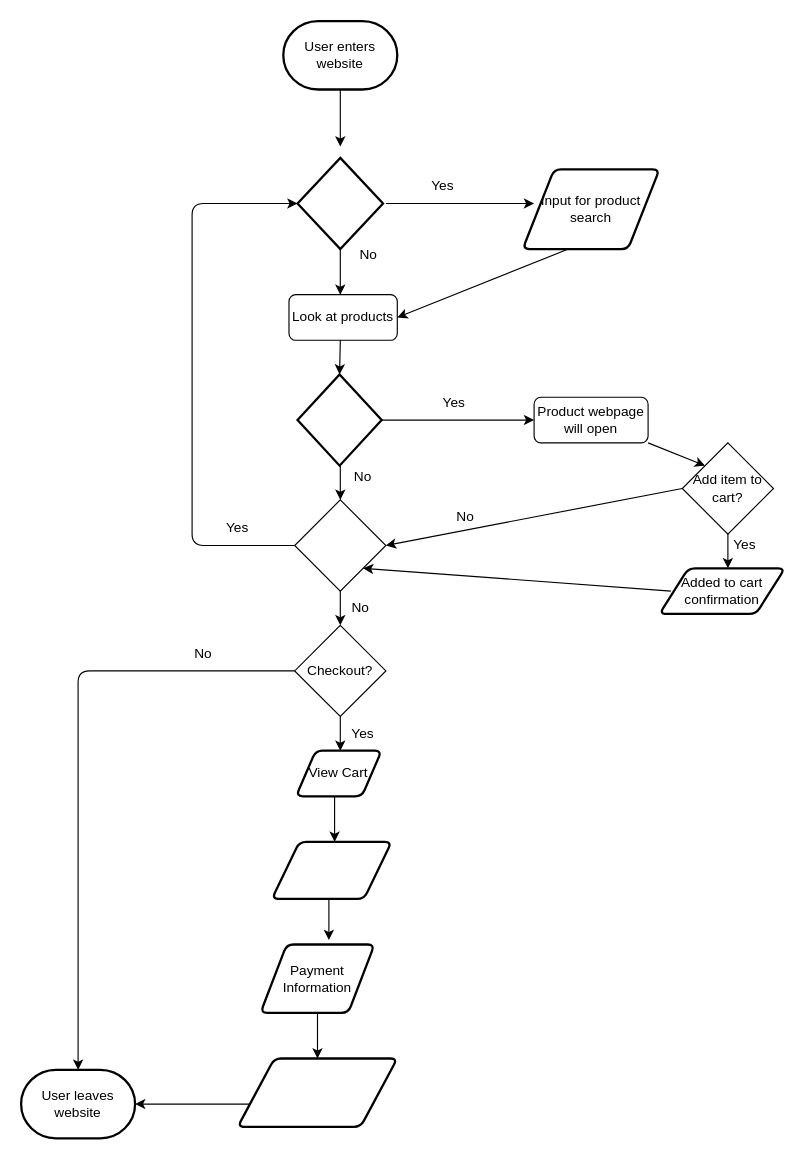
The diagram is 805 pixels wide and 1158 high, and some of its shapes have lost their labels. The shapes that lost their labels are listed below. From the top down, each one's centre as x and y in pixels, then its label:
At pixel 340 203: "Search for product?".
At pixel 339 419: "View Specific product?".
At pixel 340 545: "Continue Shopping?".
At pixel 331 869: "View Payment".
At pixel 317 1092: "Order confirmation screen and email".
